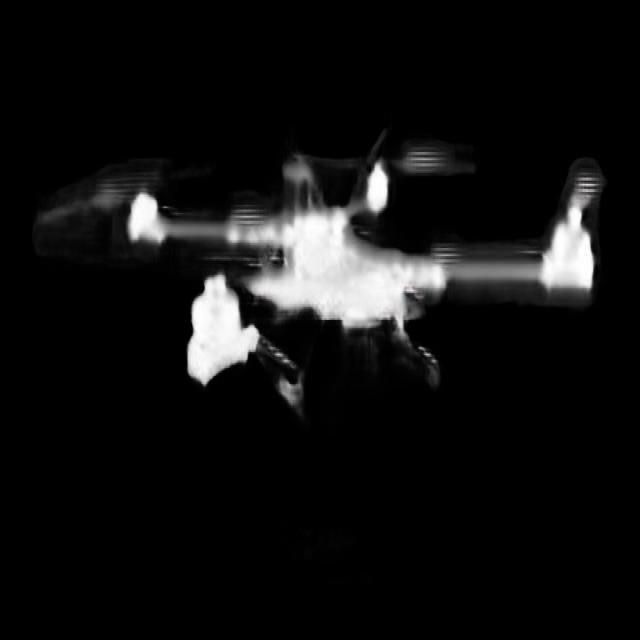drone: (26, 93, 610, 443)
